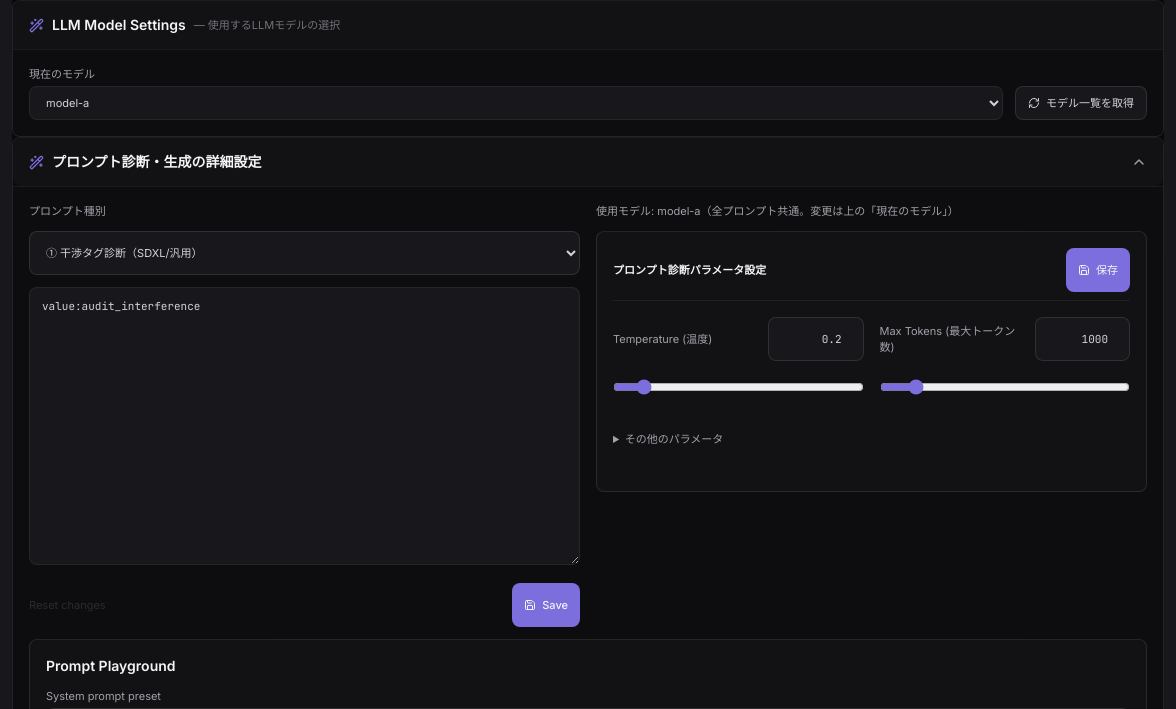
LlmSettingsSection grouped contracts › shows exact save success only after the prompt update resolves
Expected: the heading "プロンプト診断パラメータ設定" is shown, [613,262,766,278]
Replace the text in the text box with "Saved prompt draft" at (304, 426), box [29,287,580,565]
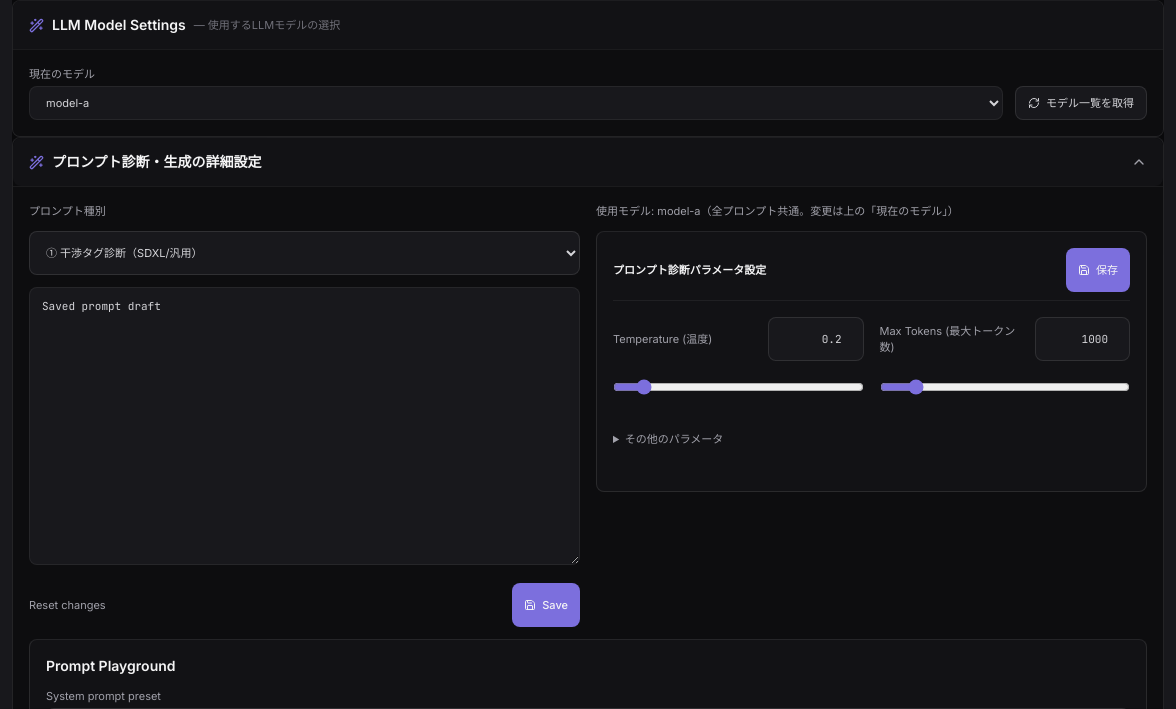
Expected: the text "設定を保存しました" is not shown
Click the button "Save" at (546, 605), box [512,583,580,627]
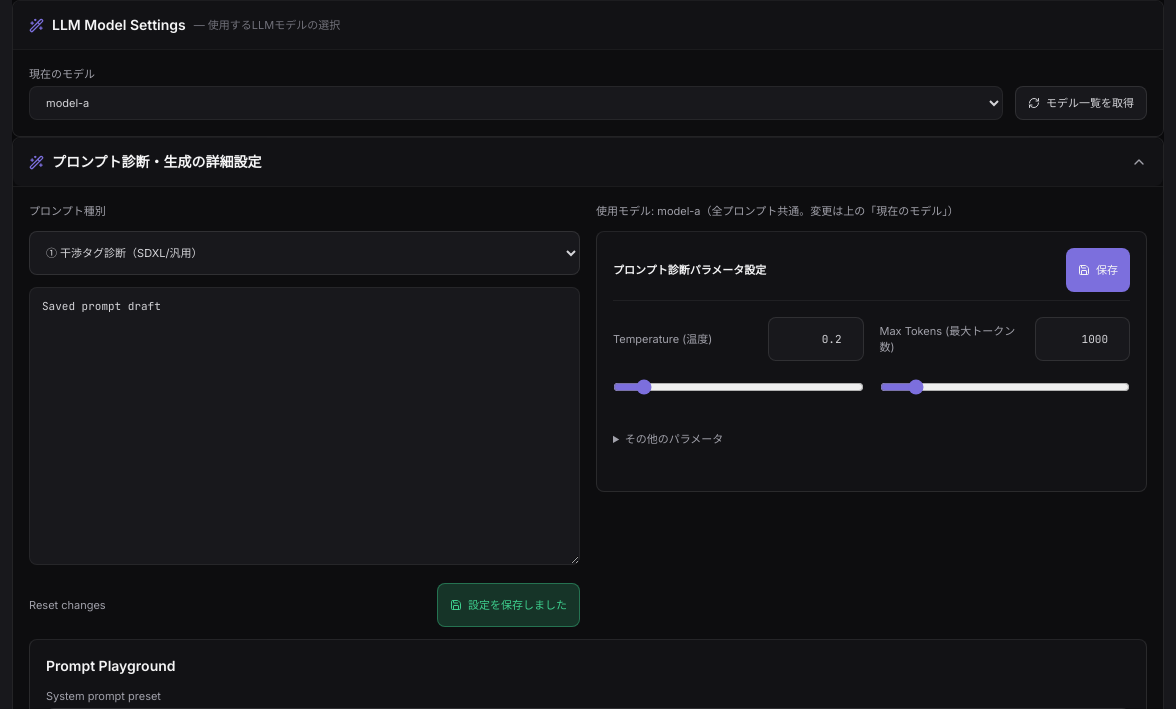
Now the button "設定を保存しました" is shown, box [437,583,580,627]
